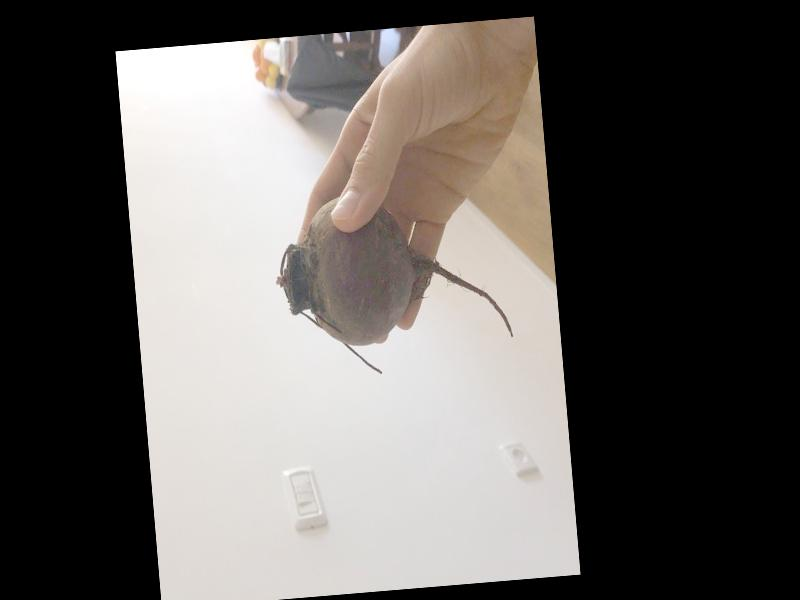Beet: (269, 182, 515, 383)
